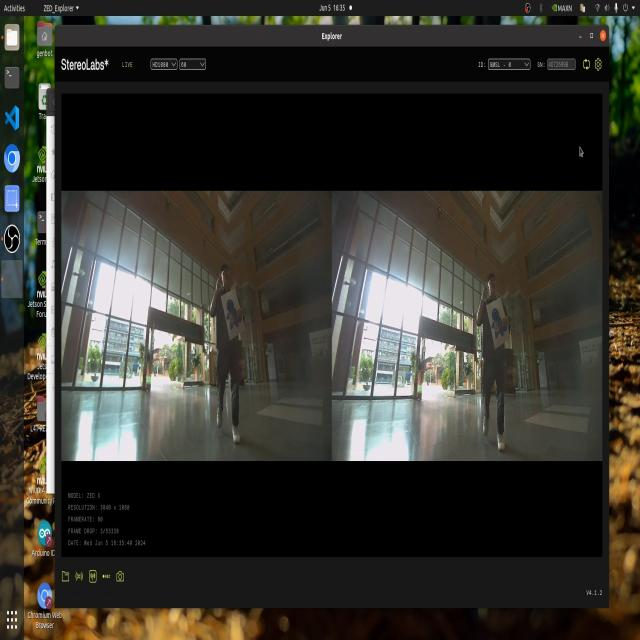blue: (218, 288, 243, 331), (486, 302, 506, 346)
